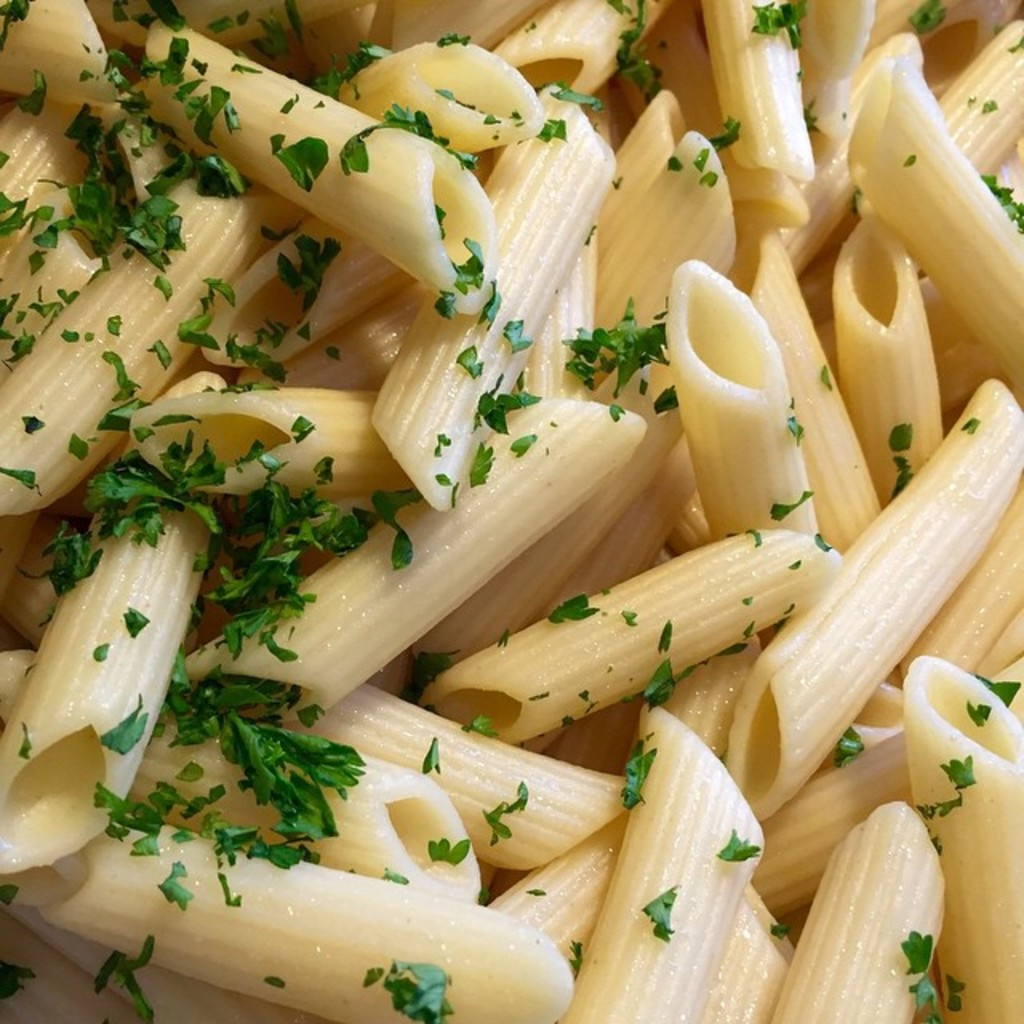pasta: (0, 0, 1024, 1019)
